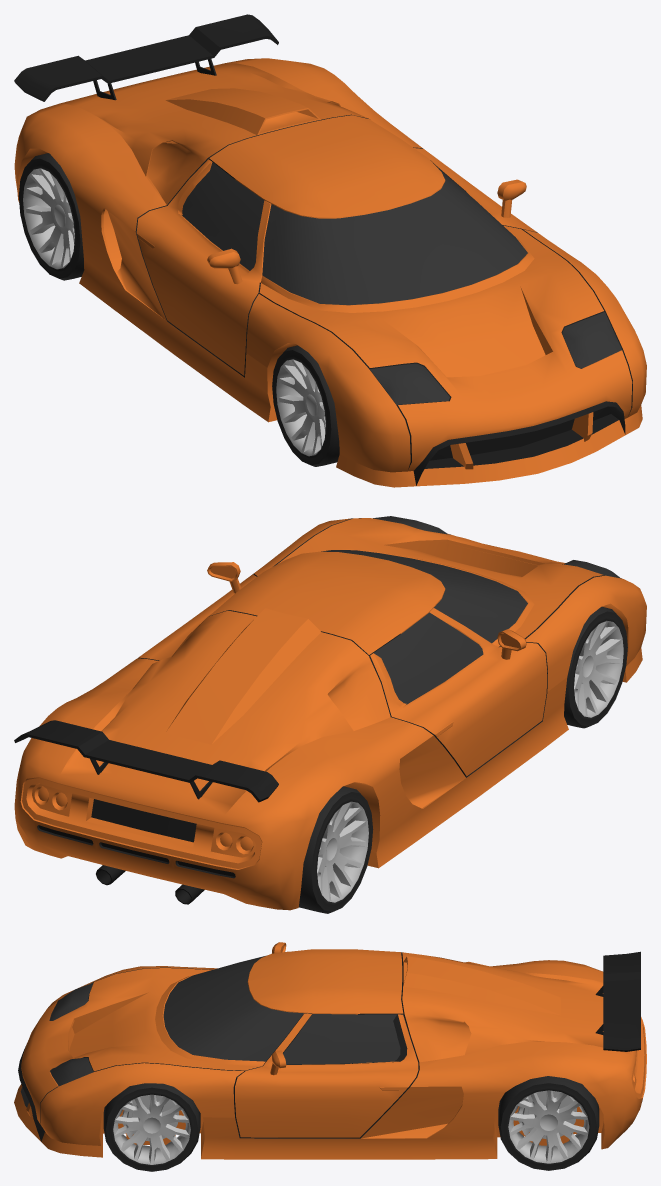
The model's file is sport-car.fbx.
3 views of the same model, one above another, from view 1: azimuth 30°, elevation 25°; view 2: azimuth 150°, elevation 25°; view 3: azimuth 270°, elevation 25° (orthographic). The views are drawn at different scales.
Visible parts, largest first — view 1: Car-3, WheelBR, WheelFR; view 2: Car-3, WheelBR, WheelFR; view 3: Car-3, WheelBL, WheelFL.
Boxes of the visible parts, left/top/right/bottom form: Car-3: left=14, top=14, right=646, bottom=487; WheelBR: left=18, top=153, right=84, bottom=280; WheelFR: left=272, top=345, right=339, bottom=466; Car-3: left=14, top=516, right=646, bottom=910; WheelBR: left=299, top=786, right=373, bottom=913; WheelFR: left=564, top=606, right=627, bottom=728; Car-3: left=14, top=942, right=646, bottom=1159; WheelBL: left=498, top=1076, right=599, bottom=1170; WheelFL: left=103, top=1083, right=200, bottom=1171.
Size of the model in its own units: 115 by 67.38 by 254.
